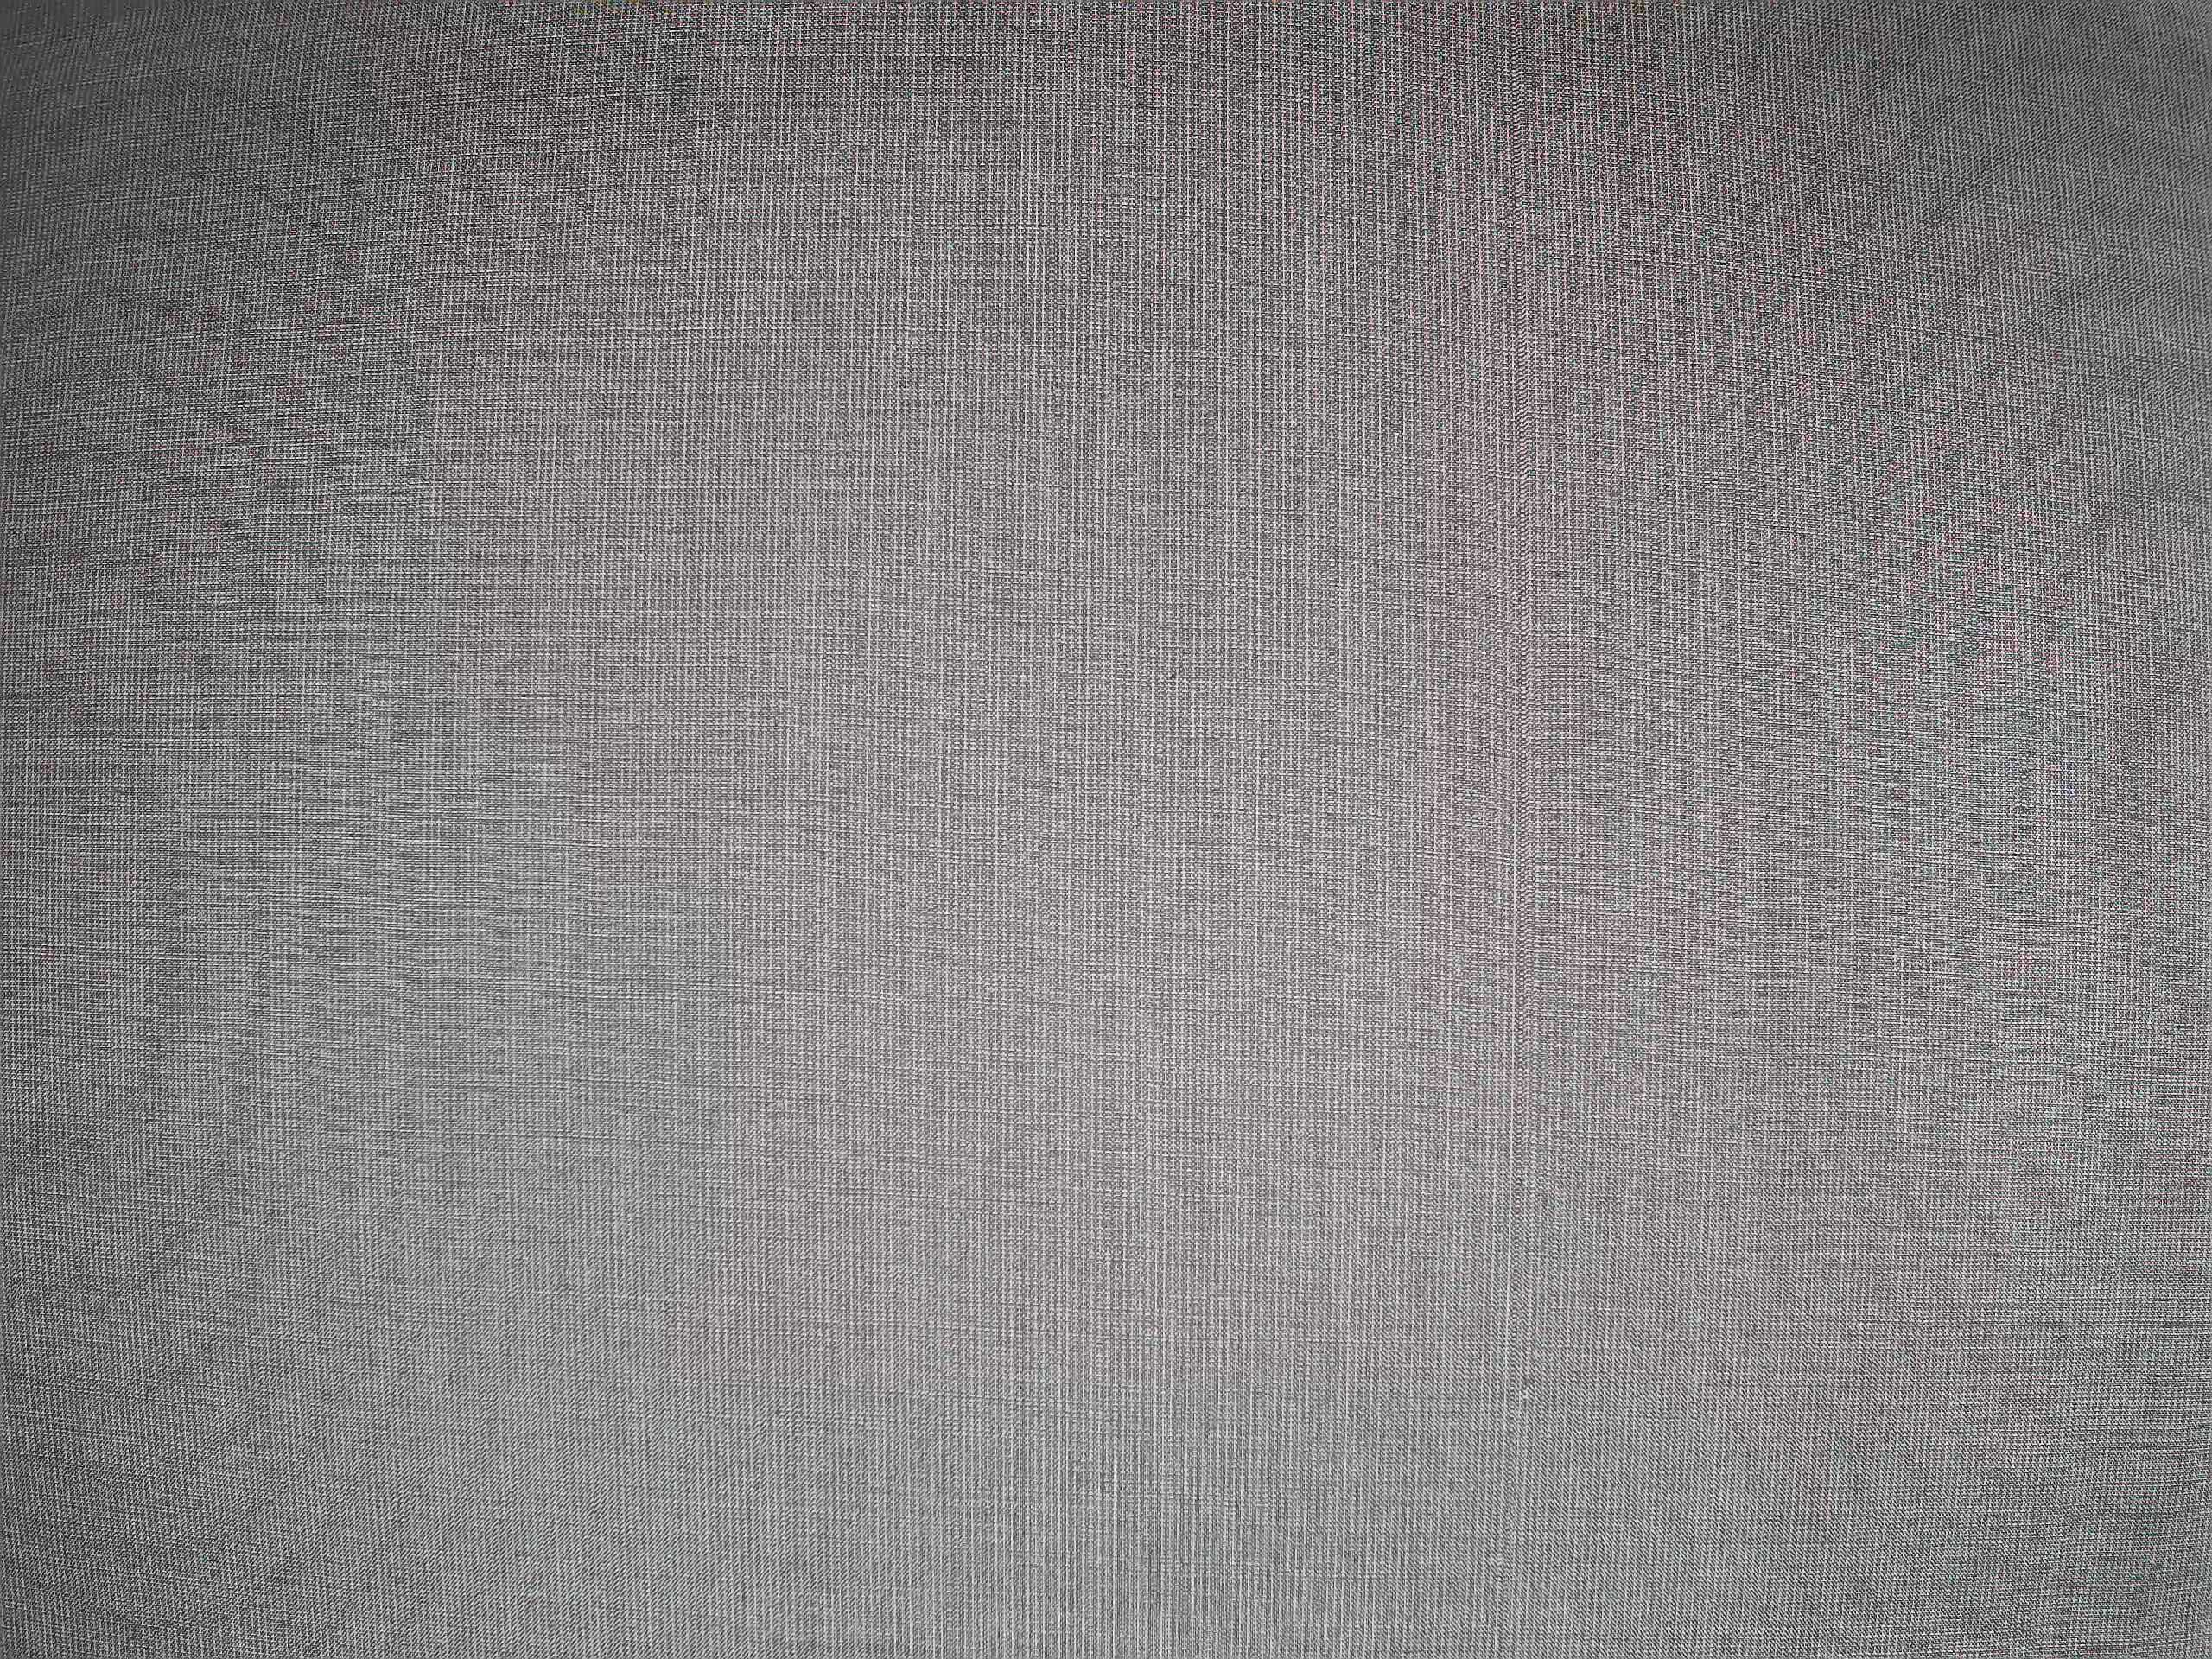hanging-warp: (1487, 7, 1538, 1652)
